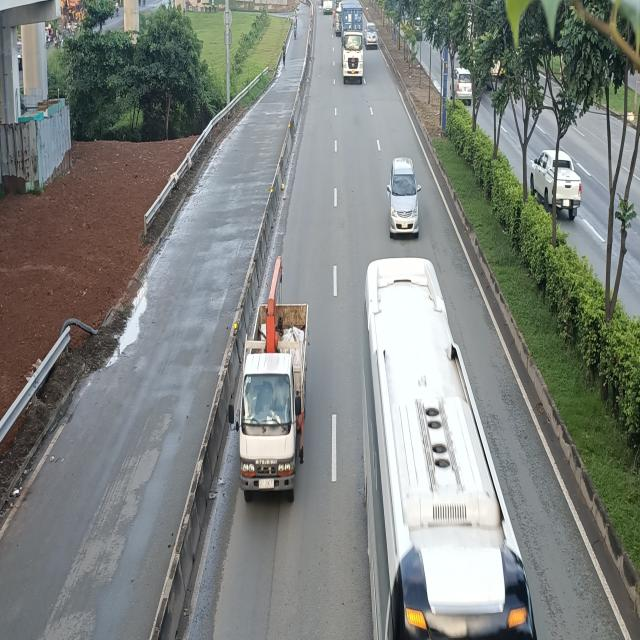car: (390, 158, 422, 238)
coach: (363, 256, 545, 636)
container: (341, 0, 365, 86)
truck: (229, 306, 308, 504)
